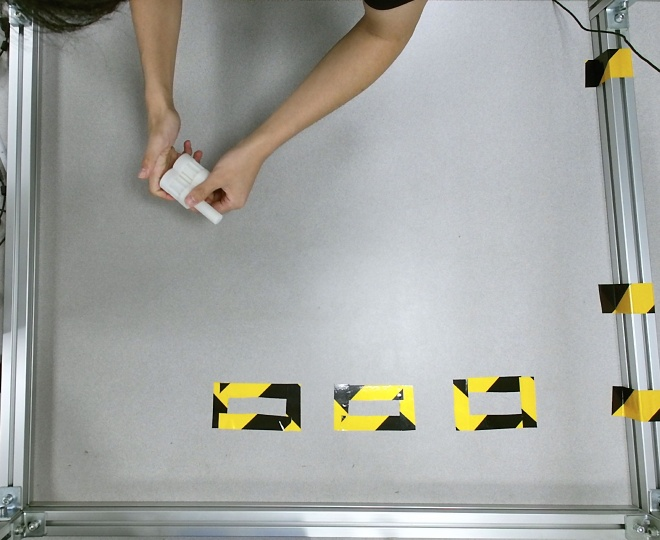stage_4: (159, 152, 221, 225)
